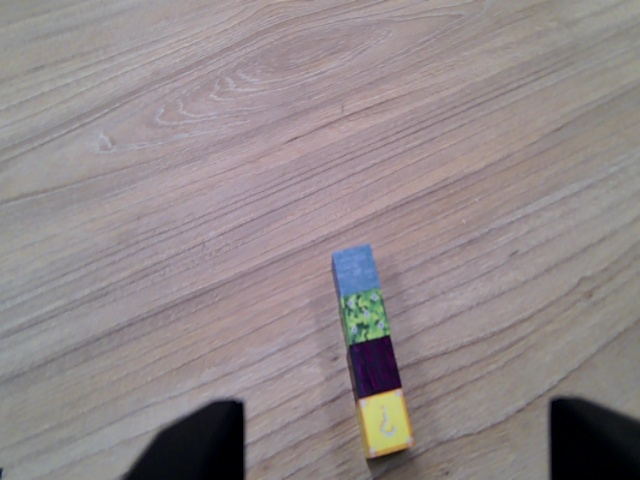brick: (342, 340, 402, 404)
grass: (337, 290, 387, 350)
lucky: (359, 392, 414, 459)
stone: (326, 245, 384, 295)
